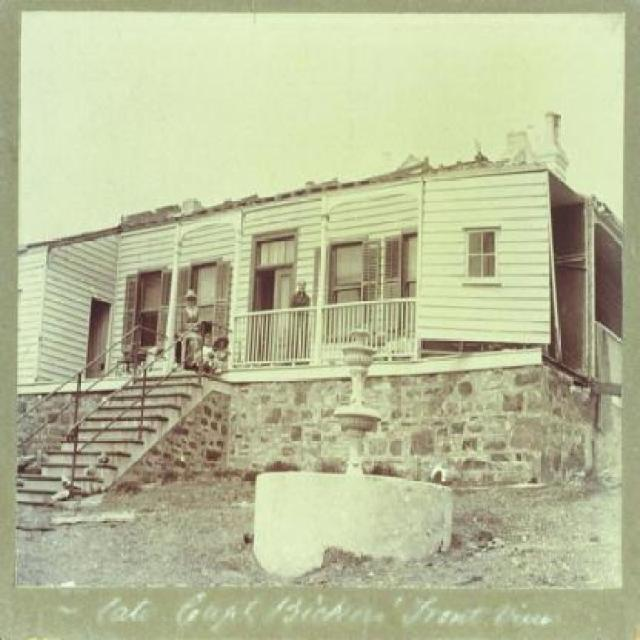stair: (18, 377, 210, 508)
